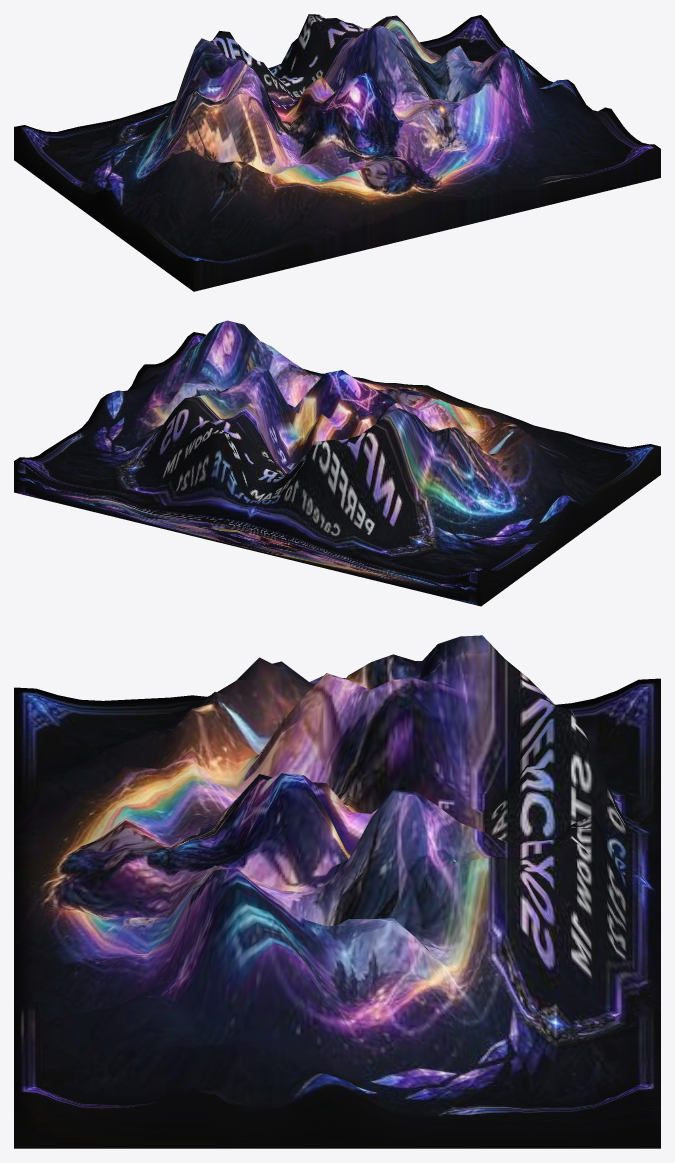
Rendered from CAREER_10_VFX_05_Perfect.glb.
3 renders of one model, top to bottom at view 1: azimuth 30°, elevation 25°; view 2: azimuth 150°, elevation 25°; view 3: azimuth 270°, elevation 25°, orthographic. The views are drawn at different scales.
Parts seen in each view (by area): view 1: CAREER_10_VFX_05_Perfect; view 2: CAREER_10_VFX_05_Perfect; view 3: CAREER_10_VFX_05_Perfect.
Part boxes in pixels (box(x1,y1,x2,y2)): CAREER_10_VFX_05_Perfect: box(14, 14, 660, 291); CAREER_10_VFX_05_Perfect: box(14, 320, 660, 606); CAREER_10_VFX_05_Perfect: box(14, 635, 660, 1148).
Size of the model in its own units: 2 by 0.51 by 1.33.
1 material, 1 textured.
